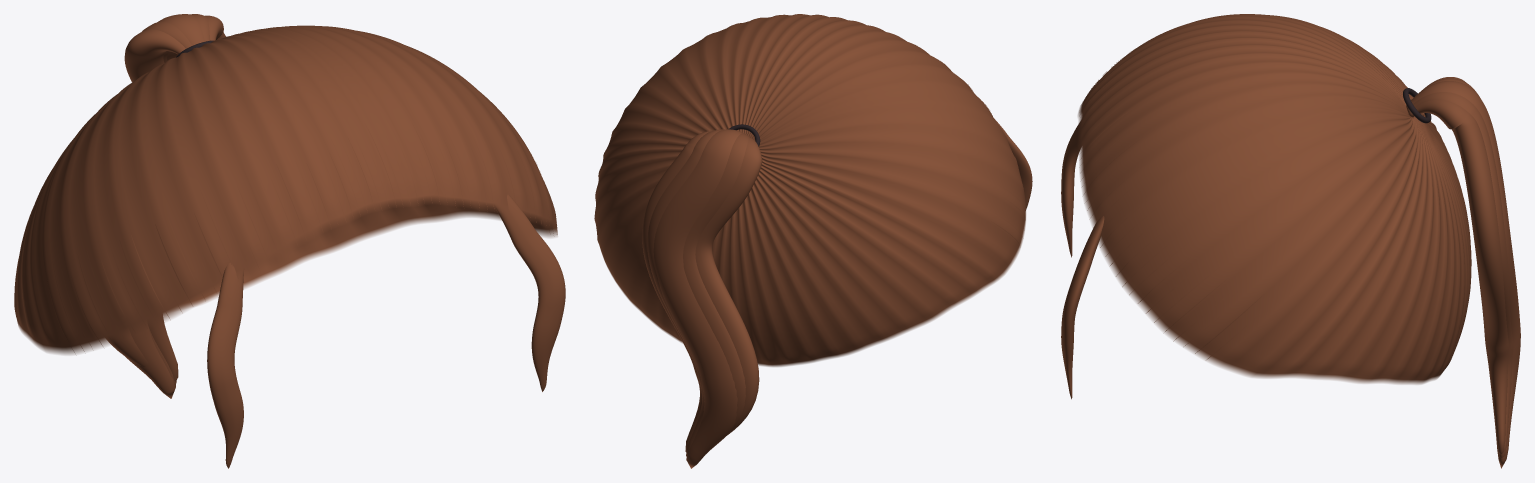
Rendered from Feminine-ponytail-hair.glb.
3 views of the same model, side by side, from view 1: azimuth 30°, elevation 25°; view 2: azimuth 150°, elevation 25°; view 3: azimuth 270°, elevation 25° (orthographic). The views are drawn at different scales.
Visible parts, largest first — view 1: Hair / pulled roots216, Hair / brushed hairline216, Hair / adjustable front216 1, Hair / adjustable front216 -1, Hair / flowing tail216 0, Hair / flowing tail216 2, Hair / flowing tail216 4; view 2: Hair / pulled roots216, Hair / flowing tail216 2, Hair / flowing tail216 0, Hair / flowing tail216 1, Hair / flowing tail216 3, Hair / flowing tail216 4, Hair / adjustable front216 -1; view 3: Hair / pulled roots216, Hair / flowing tail216 4, Hair / flowing tail216 2, Hair / flowing tail216 3, Hair / brushed hairline216, Hair / adjustable front216 1, Hair / adjustable front216 -1.
Boxes of the visible parts, box(x1,y1,x2,y2) form: Hair / pulled roots216: box(14, 25, 557, 354); Hair / brushed hairline216: box(46, 119, 556, 352); Hair / adjustable front216 1: box(494, 194, 565, 391); Hair / adjustable front216 -1: box(207, 262, 243, 468); Hair / flowing tail216 0: box(106, 29, 185, 366); Hair / flowing tail216 2: box(126, 14, 204, 398); Hair / flowing tail216 4: box(147, 15, 225, 381); Hair / pulled roots216: box(594, 14, 1025, 366); Hair / flowing tail216 2: box(653, 129, 743, 468); Hair / flowing tail216 0: box(695, 137, 762, 435); Hair / flowing tail216 1: box(683, 133, 749, 428); Hair / flowing tail216 3: box(647, 129, 724, 456); Hair / flowing tail216 4: box(642, 130, 714, 451); Hair / adjustable front216 -1: box(994, 118, 1032, 210); Hair / pulled roots216: box(1078, 14, 1471, 384); Hair / flowing tail216 4: box(1408, 100, 1508, 454); Hair / flowing tail216 2: box(1406, 81, 1520, 468); Hair / flowing tail216 3: box(1407, 92, 1513, 457); Hair / brushed hairline216: box(1081, 55, 1263, 359); Hair / adjustable front216 1: box(1061, 216, 1104, 399); Hair / adjustable front216 -1: box(1061, 120, 1081, 257).
Size of the model in its own units: 0.9664 by 0.862 by 0.852.
